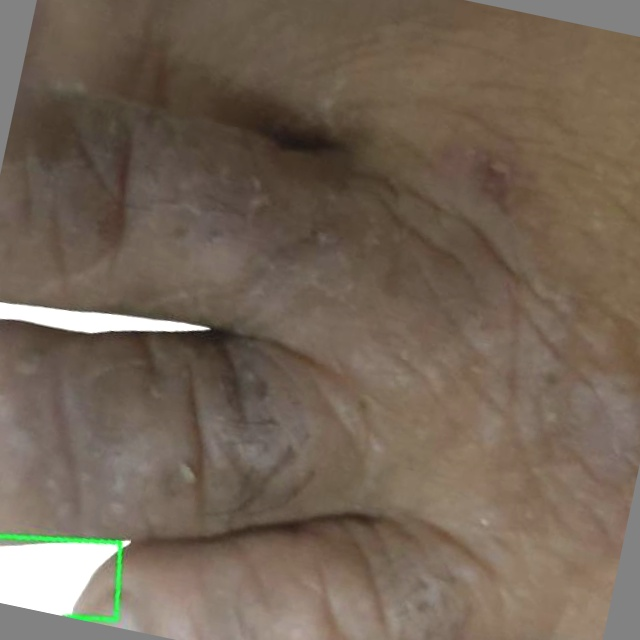Eczema: (0, 536, 121, 619)
